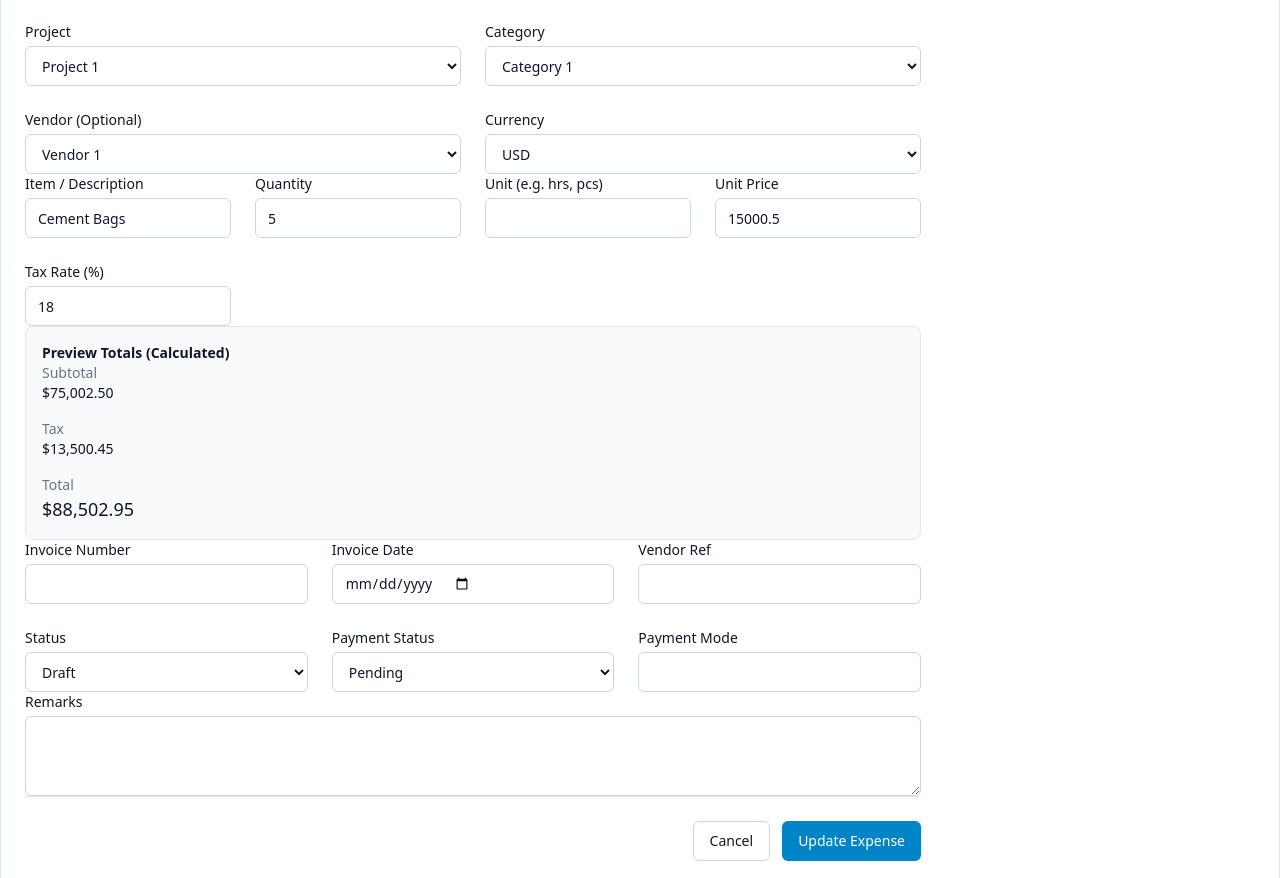
Test case: Expenses Web Module › Edit Page › displays 409 conflict error clearly
(page scrolled)
Expected: the field showing "Cement Bags" is shown, x1=25 y1=198 x2=231 y2=238
Click the button "Update Expense": (852, 841) x1=782 y1=821 x2=921 y2=861
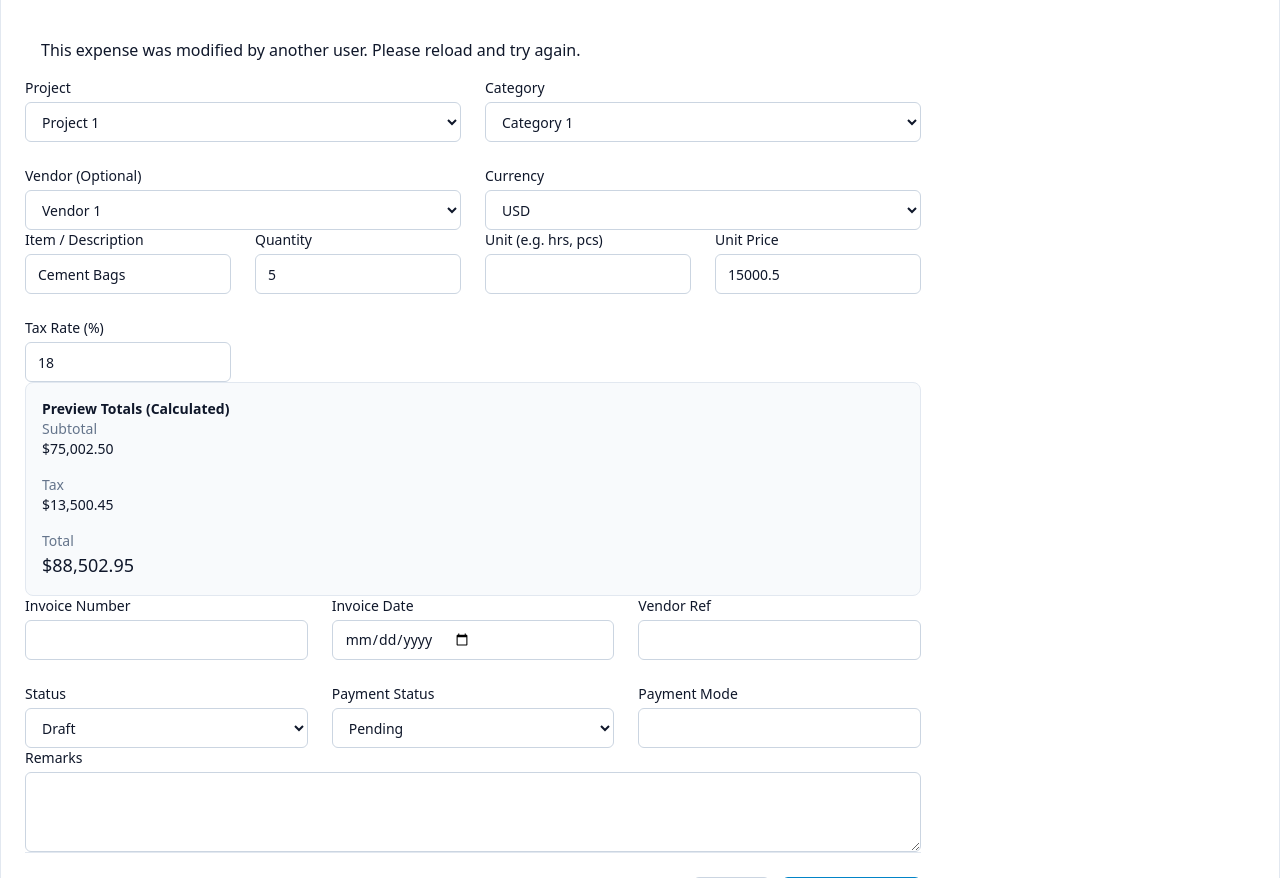
Result: the text "This expense was modified by another user. Please reload and try again." is shown at x1=41 y1=39 x2=580 y2=61
